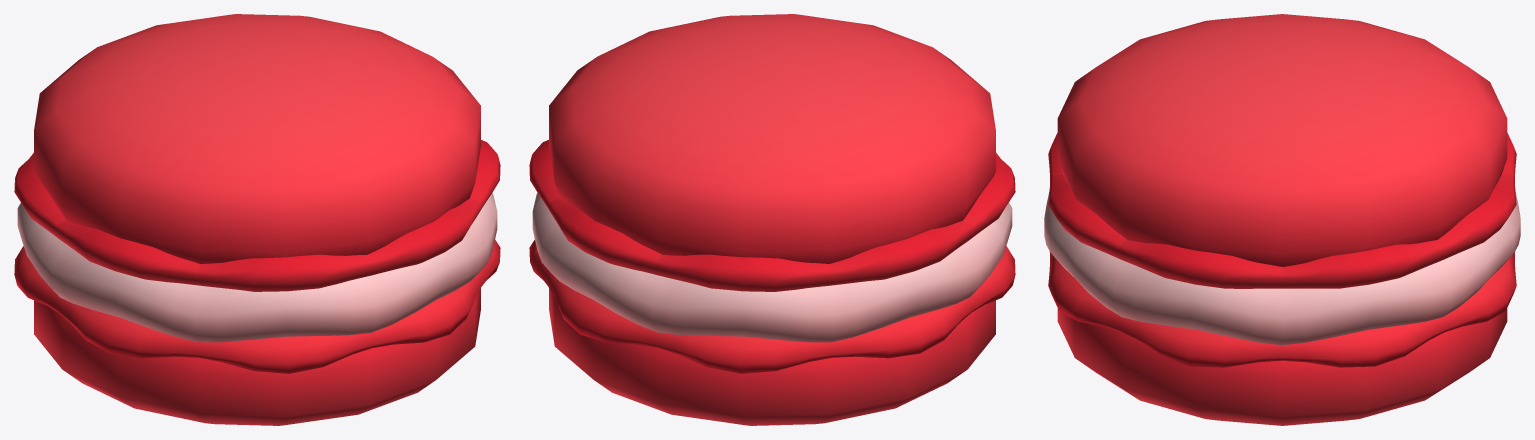
The model's file is Macaron_V1_04.fbx.
3 renders of one model, left to right at view 1: azimuth 30°, elevation 25°; view 2: azimuth 150°, elevation 25°; view 3: azimuth 270°, elevation 25°, orthographic.
Parts seen in each view (by area): view 1: Macaron_V1_04; view 2: Macaron_V1_04; view 3: Macaron_V1_04.
Boxes of the visible parts, x1,y1,x2,y2 form: Macaron_V1_04: (14, 14, 500, 425); Macaron_V1_04: (529, 14, 1015, 425); Macaron_V1_04: (1044, 14, 1520, 425).
Size of the model in its own units: 27.03 by 19.94 by 27.03.
